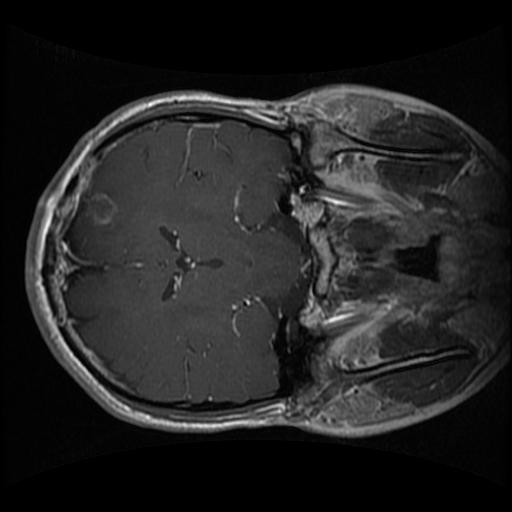glioma: (79, 189, 120, 230)
